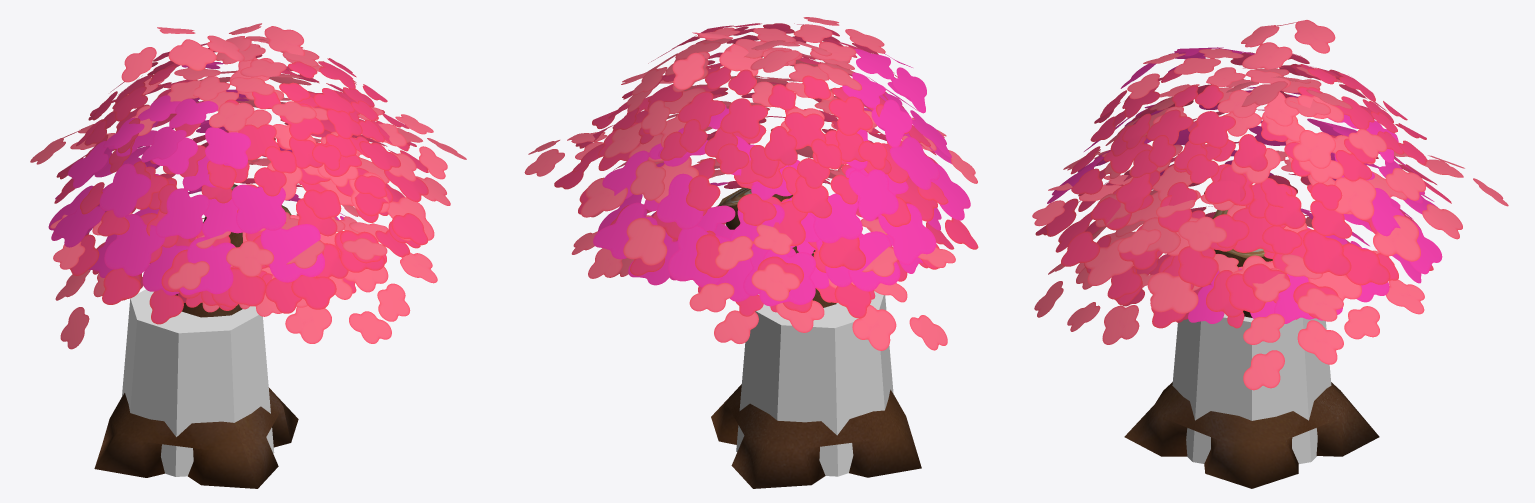
Rendered from cerejeira_muda.glb.
3 renders of one model, left to right at view 1: azimuth 30°, elevation 25°; view 2: azimuth 150°, elevation 25°; view 3: azimuth 270°, elevation 25°, orthographic. The views are drawn at different scales.
Parts seen in each view (by area): view 1: sprout.004_12, Colisao.017; view 2: sprout.004_12, Colisao.017; view 3: sprout.004_12, Colisao.017.
Boxes of the visible parts, x1,y1,x2,y2 form: sprout.004_12: (30,23,466,488); Colisao.017: (122,289,274,476); sprout.004_12: (524,17,978,488); Colisao.017: (736,291,893,476); sprout.004_12: (1032,20,1508,488); Colisao.017: (1172,313,1331,463).
Size of the model in its own units: 1.52 by 1.38 by 1.5.
Materials: 1 (1 with a texture image).
